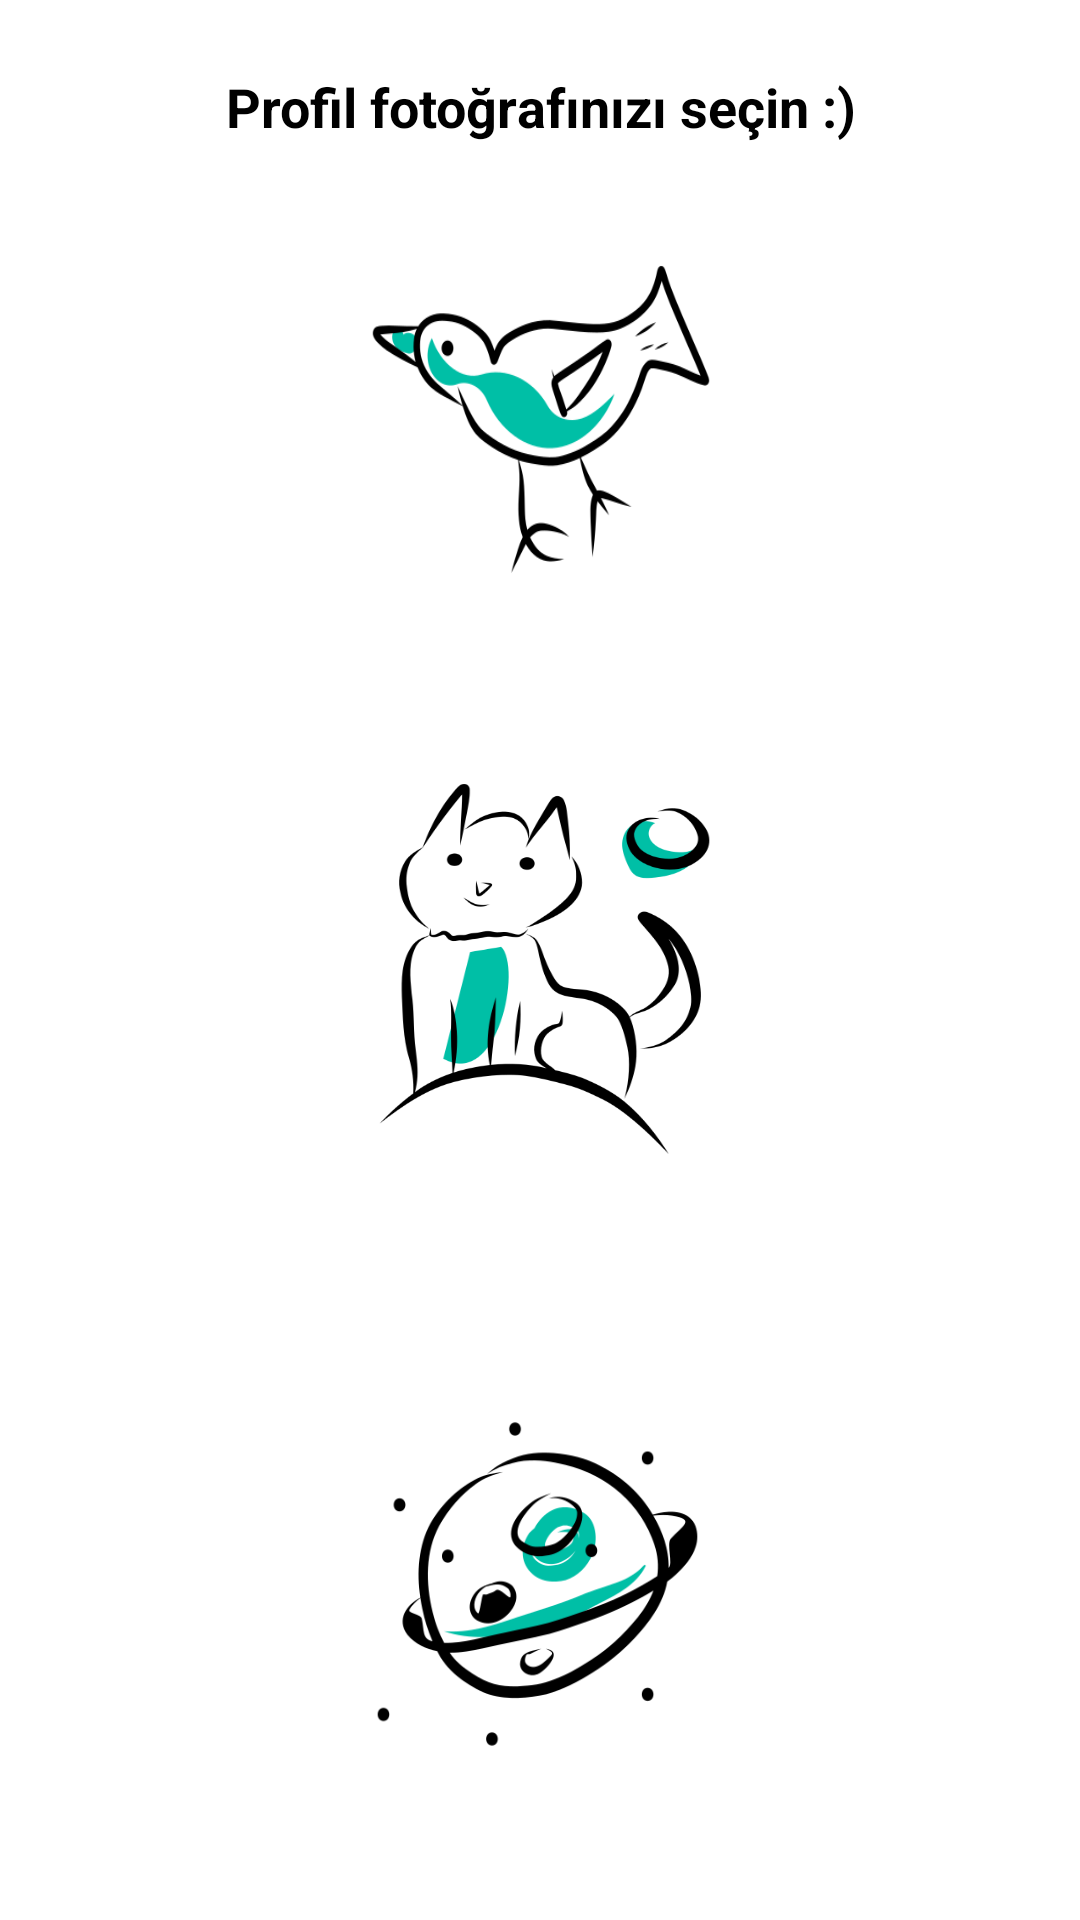

Icons on this 1080 x 1920 Android screen, each with the point to tap as point (x, y):
bird: point (541, 419)
planet: point (537, 1584)
